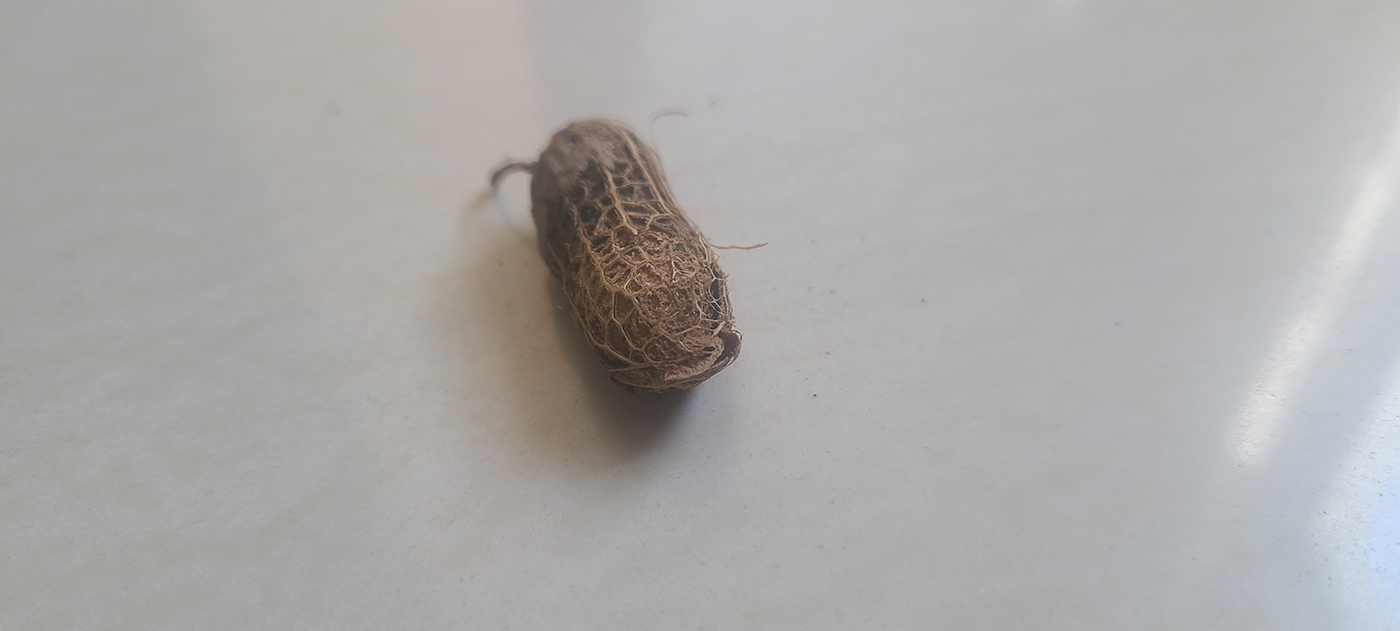l: (533, 117, 743, 394)
